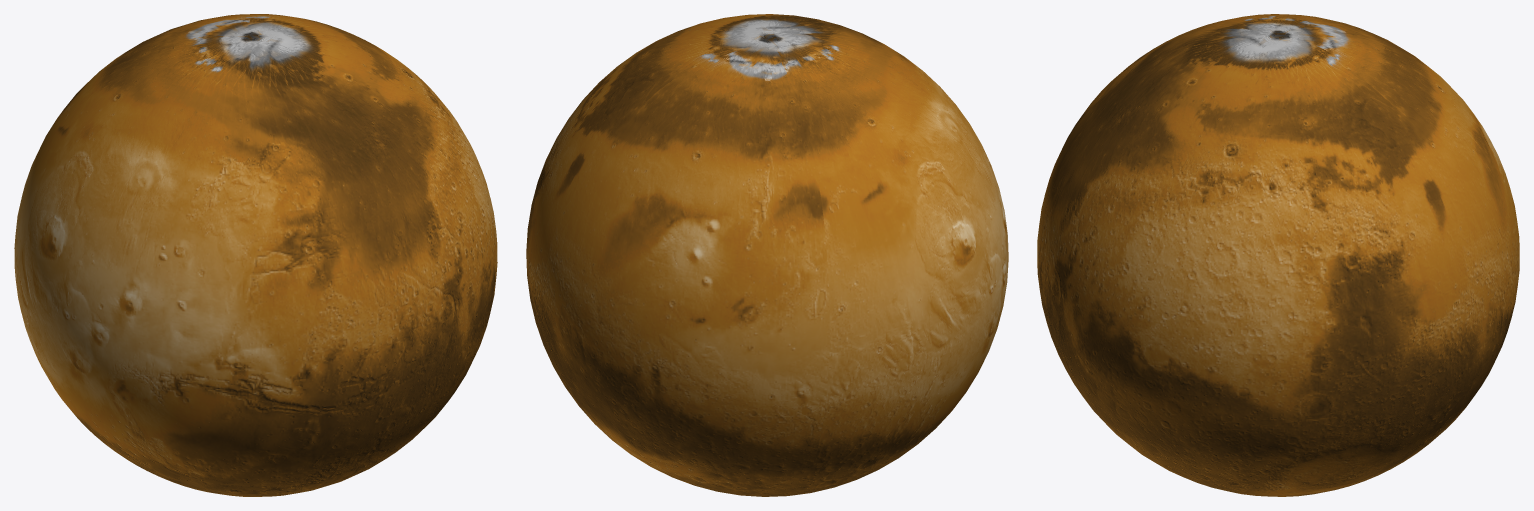
Rendered from Mars.gltf.
3 views of the same model, side by side, from view 1: azimuth 30°, elevation 25°; view 2: azimuth 150°, elevation 25°; view 3: azimuth 270°, elevation 25° (orthographic).
Visible parts, largest first — view 1: Mars; view 2: Mars; view 3: Mars.
Part boxes in pixels (x1,y1,x2,y2): Mars: (14,14,497,496); Mars: (526,14,1008,496); Mars: (1037,14,1519,496).
Bounding box in the file's own units: 9.99 × 9.99 × 9.98.
1 material, 1 textured.
